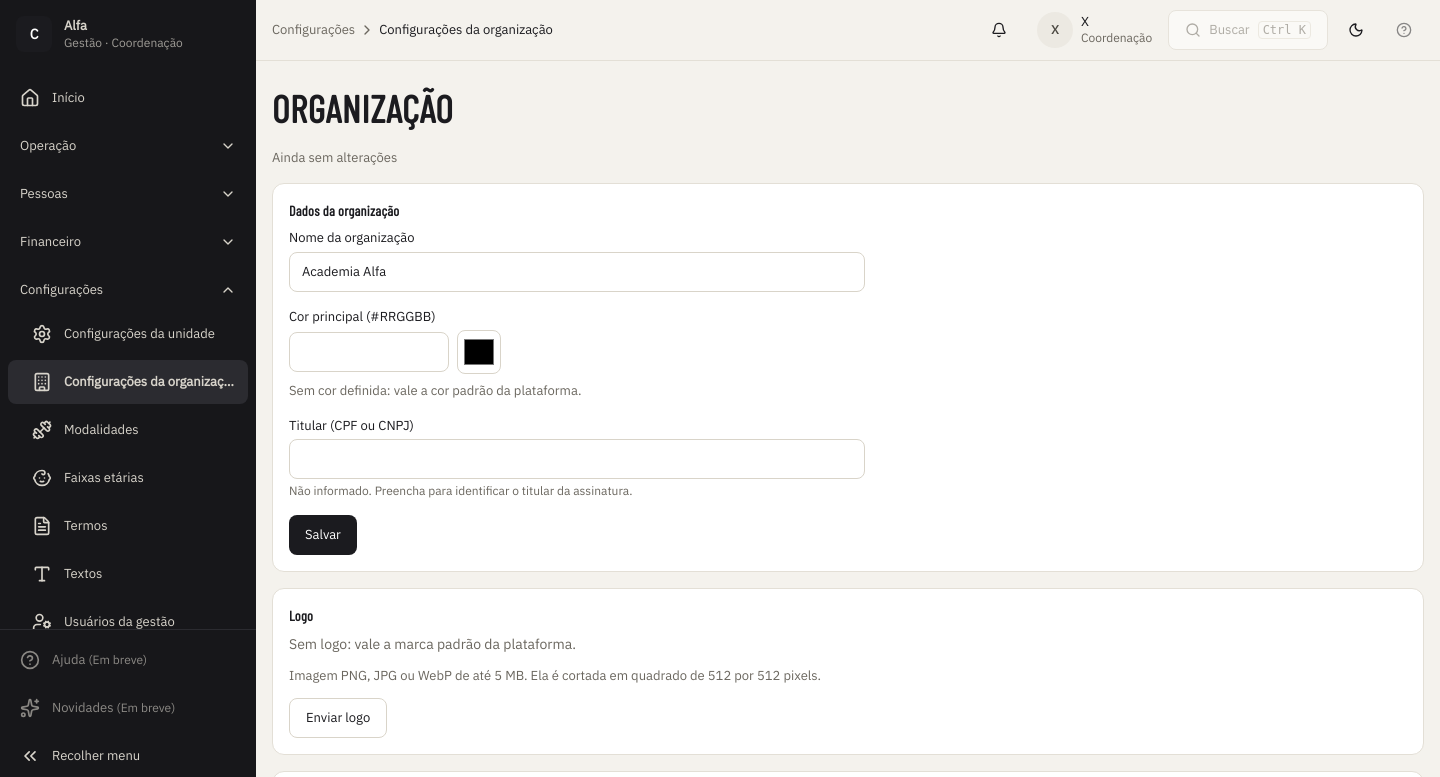
Test: OrganizationSettingsPage › CA15: erro do servidor aparece junto do campo
Replace the text in the field labelled "Nome da organização" with "Recusado" at (577, 272), box [289,252,865,292]
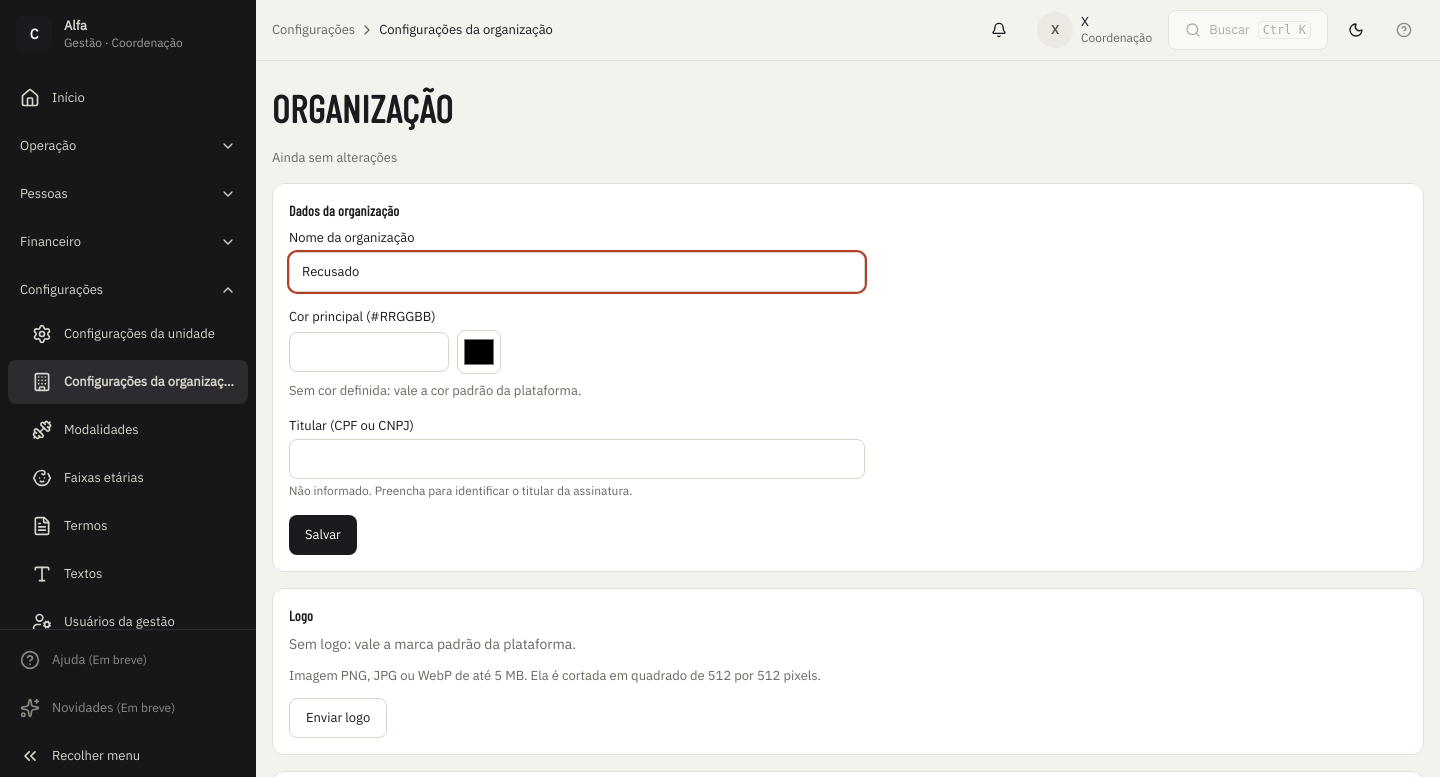
Click the button "Salvar" at (323, 535), box [289,515,357,555]
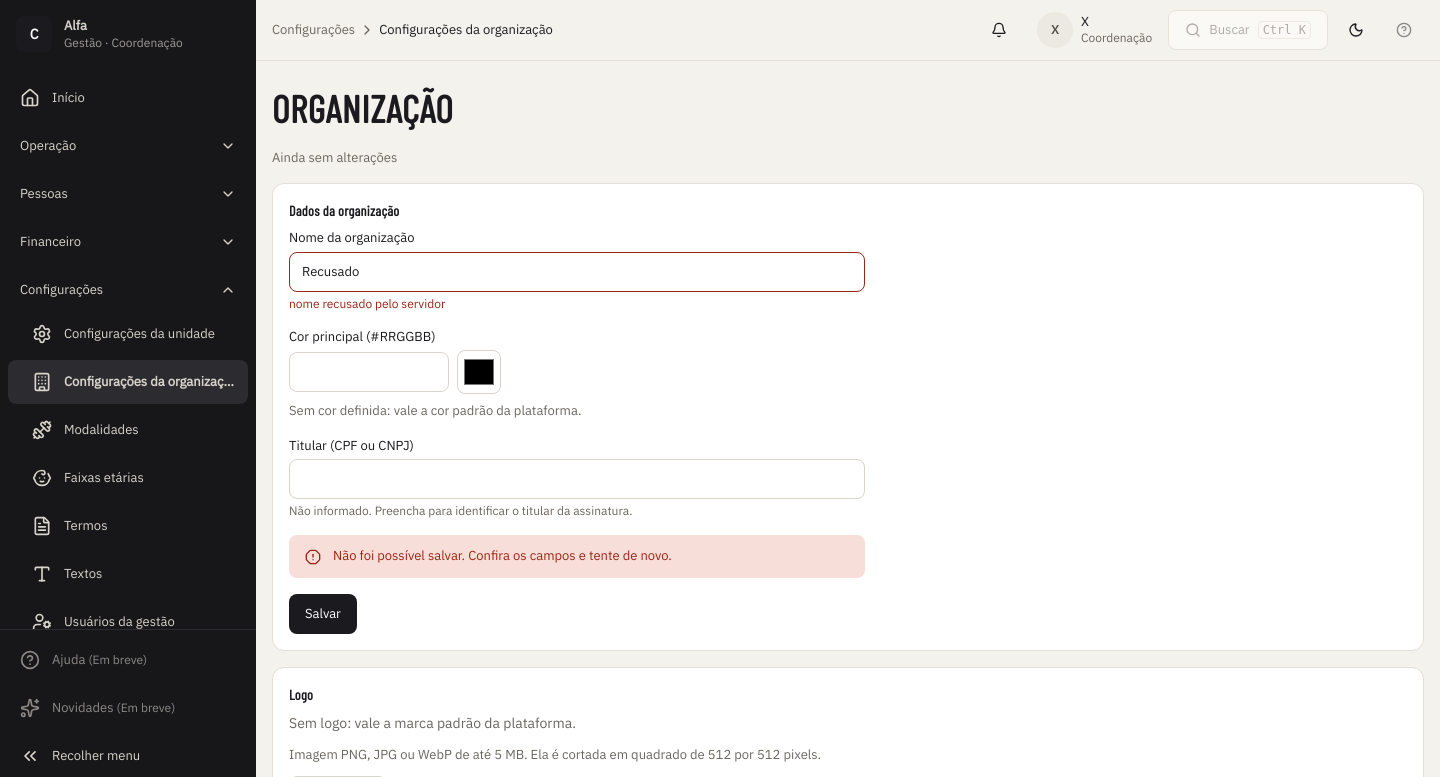
Expected: the text "nome recusado pelo servidor" is shown, [289,296,445,311]
